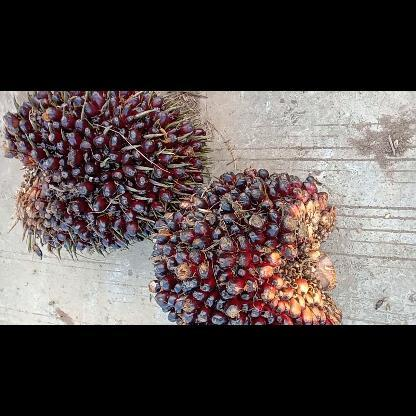TBS mentah: (4, 90, 209, 254), (148, 170, 342, 324)
